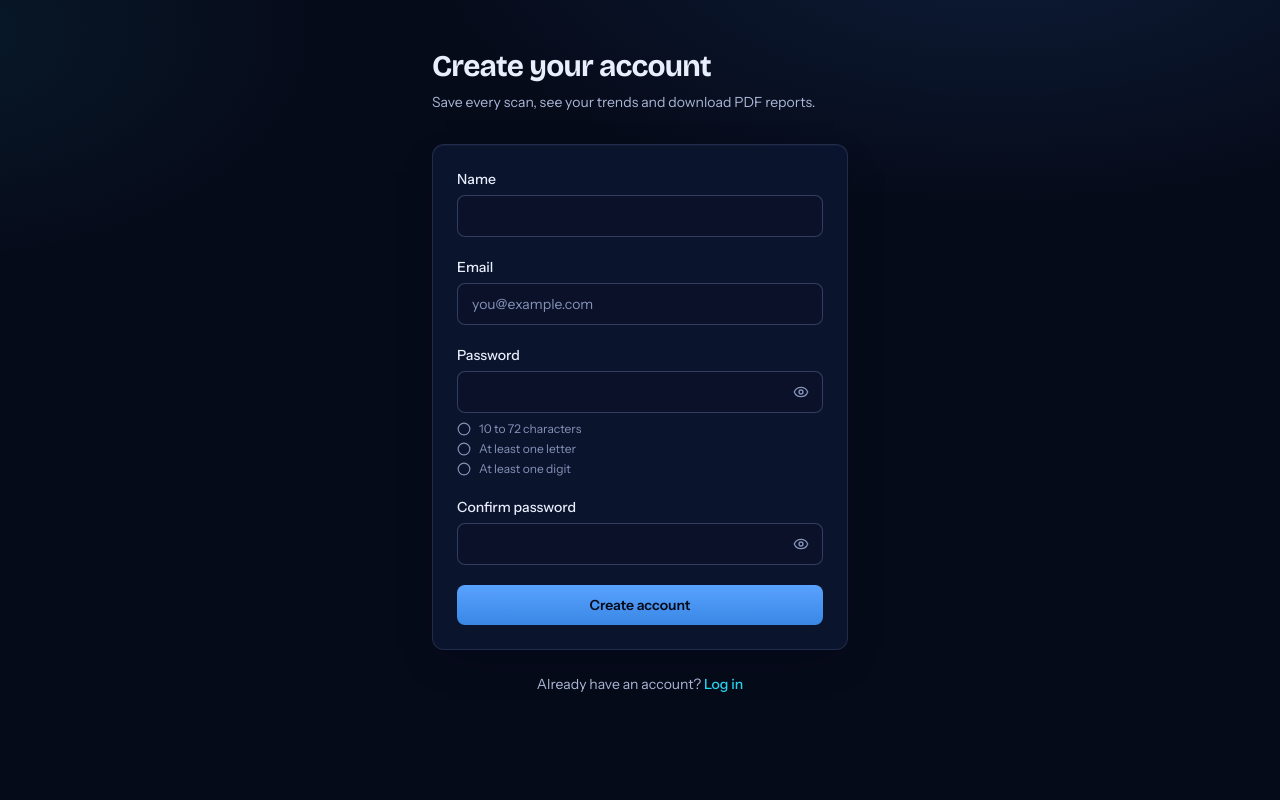
RegisterPage › requires matching passwords
The image size is (1280, 800).
Type "Ada Lovelace" into the field labelled "Name" at {"x": 640, "y": 216}, box [457,195,823,237]
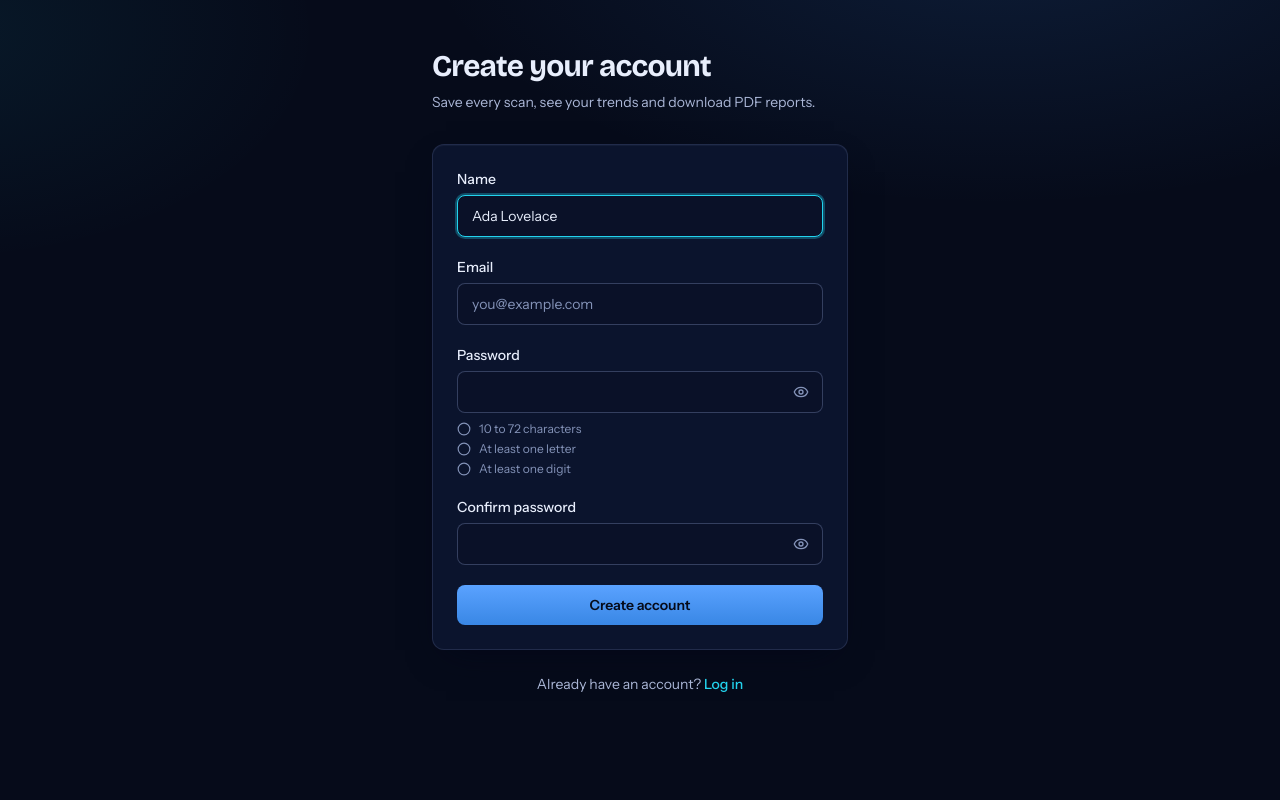
Type "ada@example.com" into the field labelled "Email" at {"x": 640, "y": 304}, box [457,283,823,325]
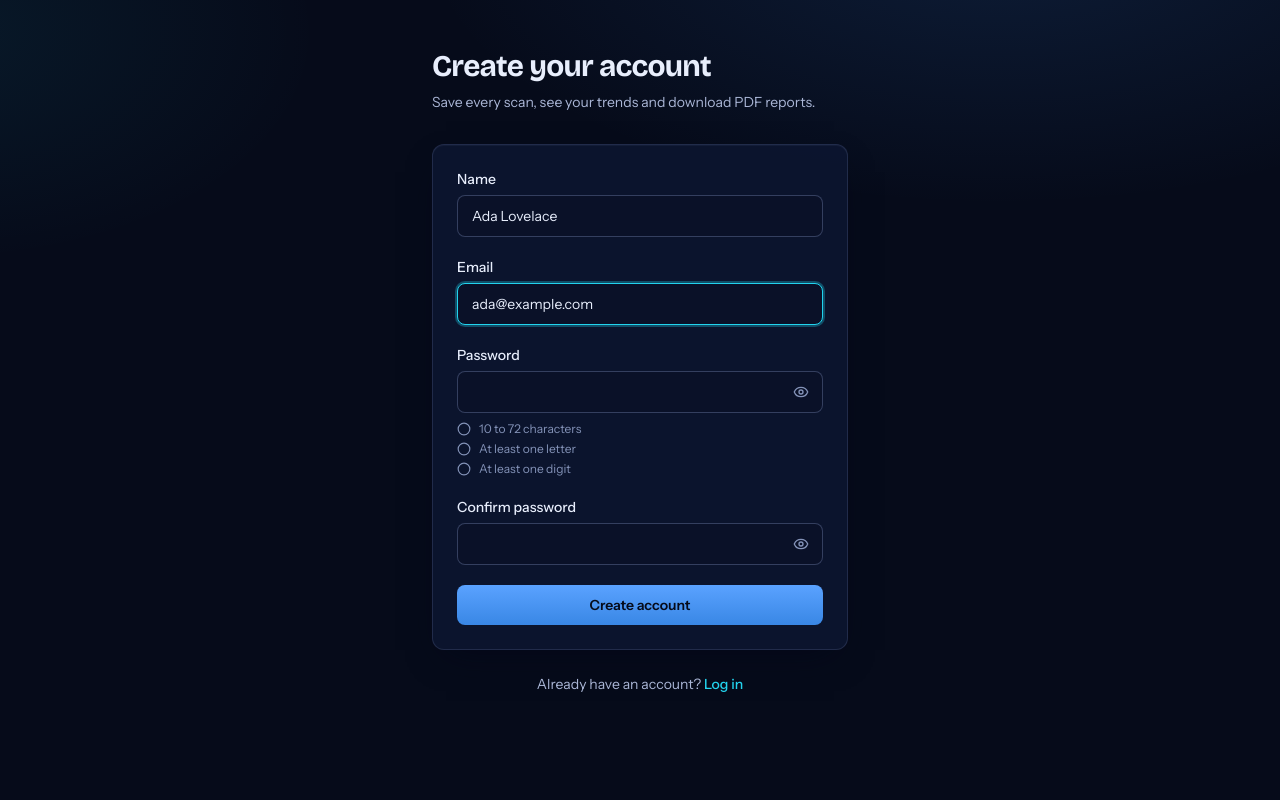
Type "a-strong-pass-1" into the password field labelled "Password" at {"x": 640, "y": 392}, box [457,371,823,413]
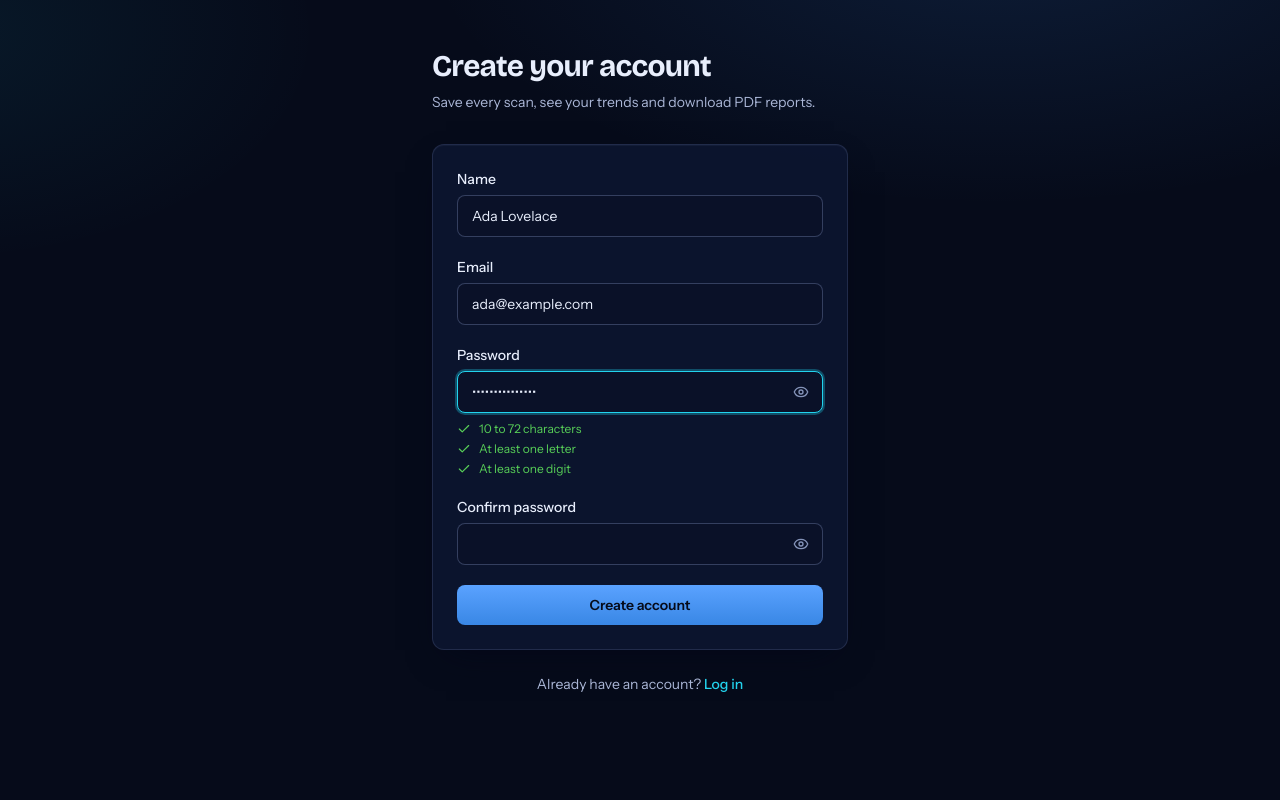
Type "something-else-1" into the password field labelled "Confirm password" at {"x": 640, "y": 544}, box [457,523,823,565]
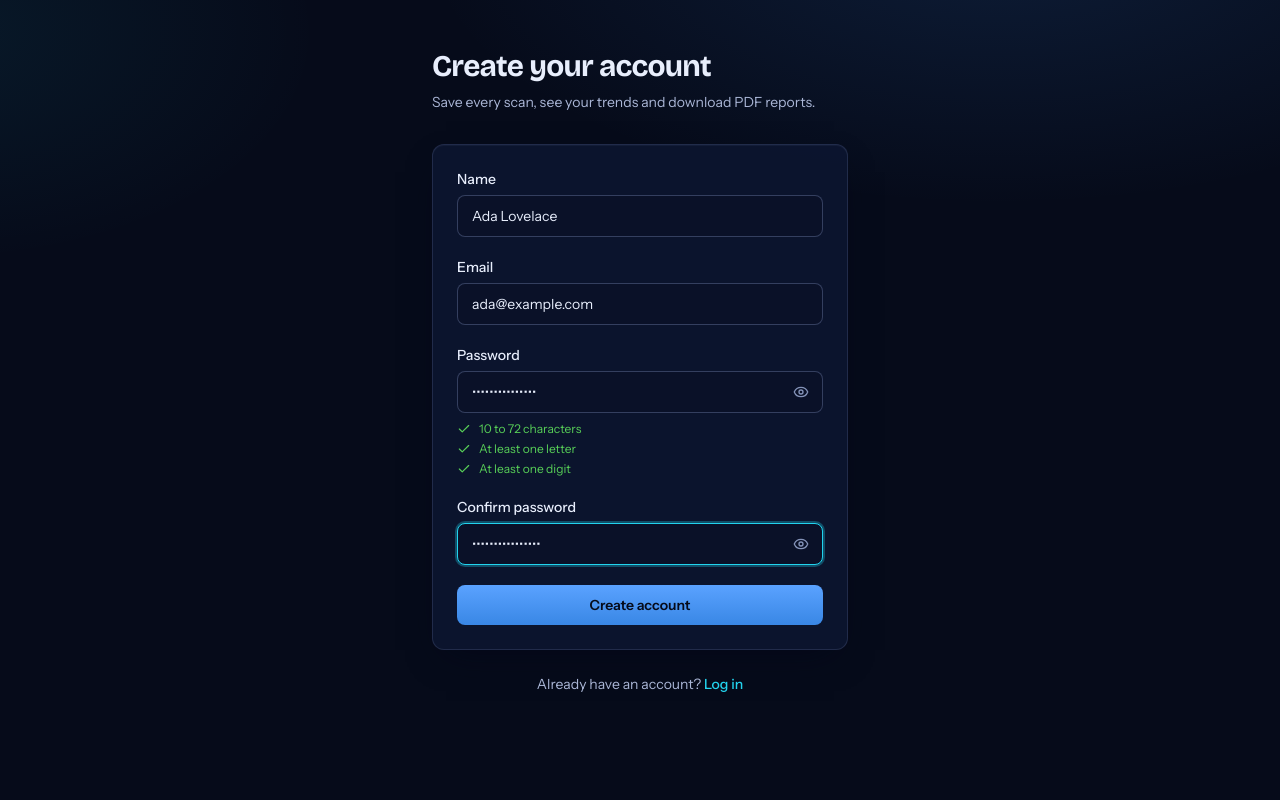
Click the button "Create account" at {"x": 640, "y": 605}, box [457,585,823,625]
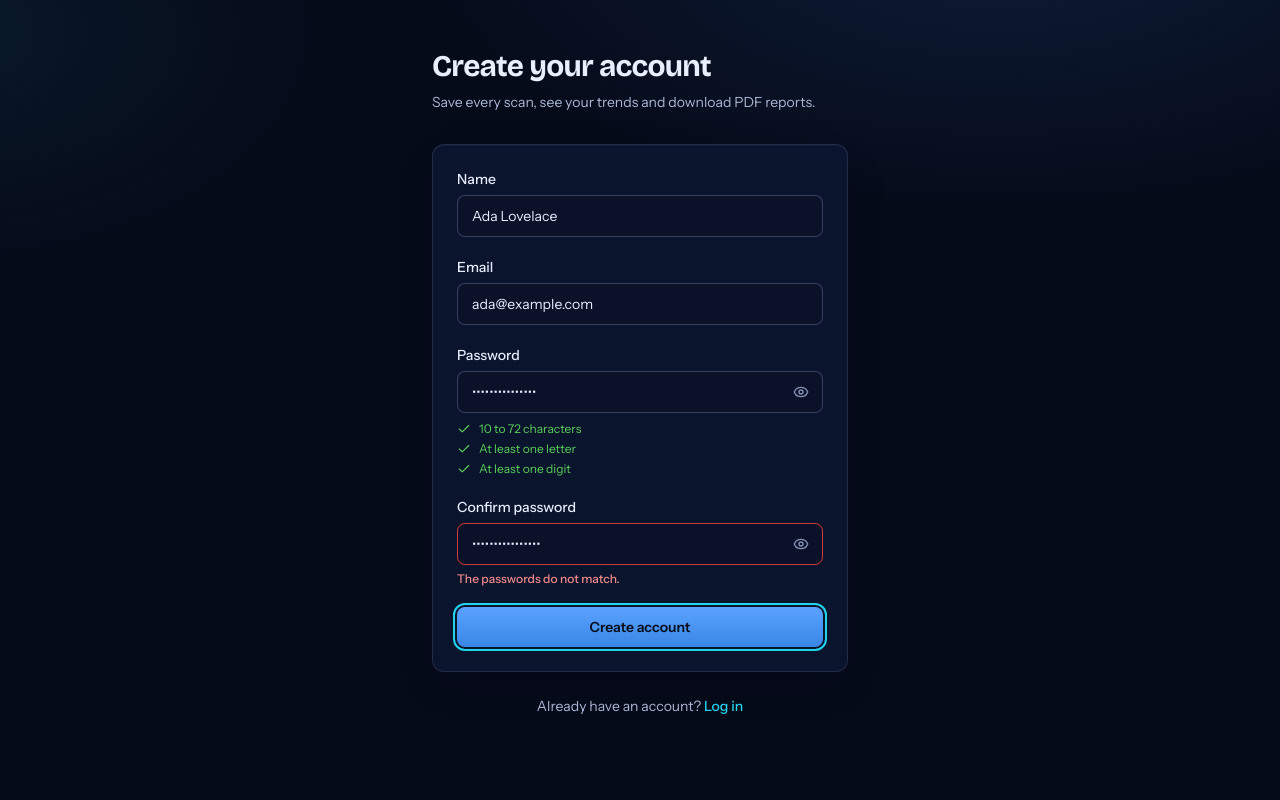
Expected: the text "The passwords do not match." is shown, [457,571,620,586]
